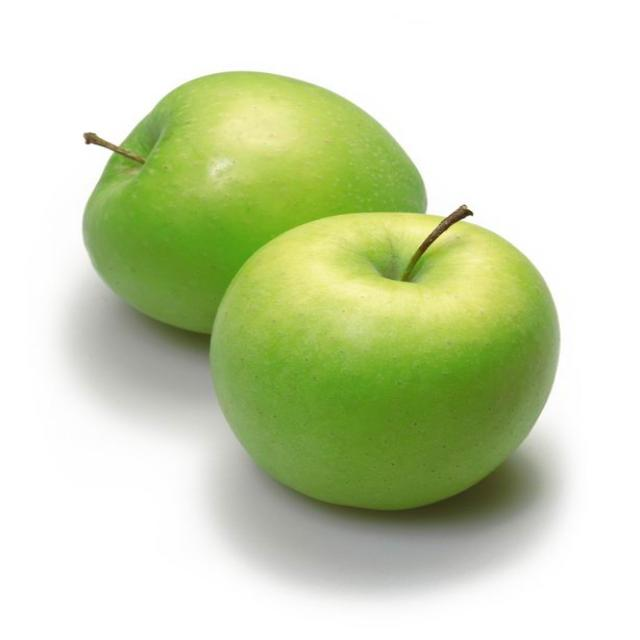apple: (211, 206, 562, 518), (42, 64, 439, 336)
